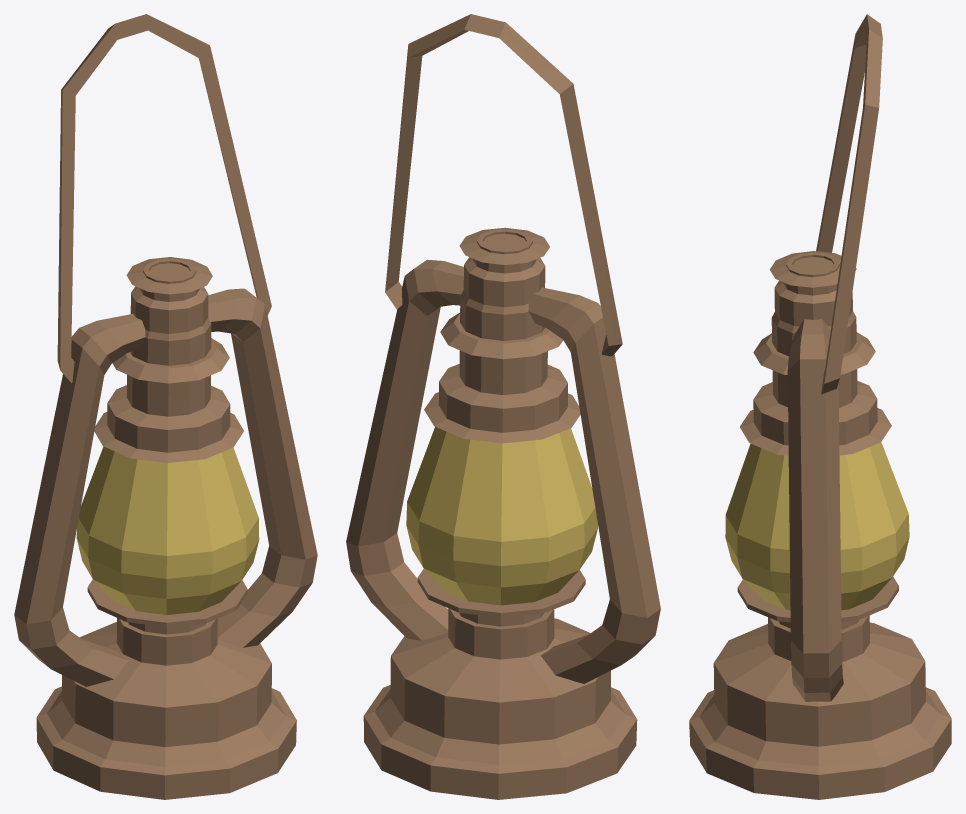
File: oil_lamp.fbx
The picture shows the model from 3 angles, left to right: view 1: azimuth 30°, elevation 25°; view 2: azimuth 150°, elevation 25°; view 3: azimuth 270°, elevation 25°; orthographic projection. The views are drawn at different scales.
Visible parts, largest first — view 1: MainBodyLamp, UpperPartLamp; view 2: MainBodyLamp, UpperPartLamp; view 3: MainBodyLamp, UpperPartLamp.
Part boxes in pixels (x1,y1,x2,y2): MainBodyLamp: (14,257,317,799); UpperPartLamp: (57,14,271,383); MainBodyLamp: (346,227,660,799); UpperPartLamp: (385,14,622,356); MainBodyLamp: (689,251,951,799); UpperPartLamp: (816,14,882,394).
Bounding box in the file's own units: 25.28 × 59.53 × 19.69.
